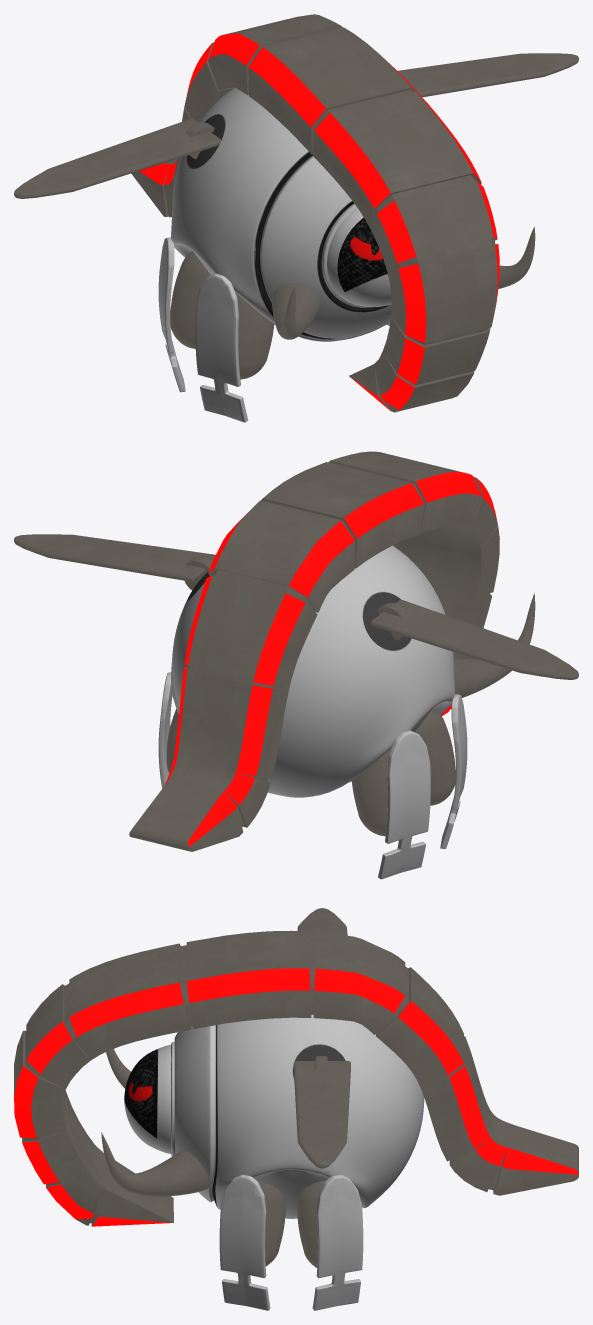
3 renders of one model, top to bottom at view 1: azimuth 30°, elevation 25°; view 2: azimuth 150°, elevation 25°; view 3: azimuth 270°, elevation 25°, orthographic. The views are drawn at different scales.
Visible parts, largest first — view 1: pSphere4_blinn2_0, pSphere1_blinn3_0, pCube7_blinn1_0; view 2: pSphere4_blinn2_0, pSphere1_blinn3_0, pCube7_blinn1_0; view 3: pSphere4_blinn2_0, pSphere1_blinn3_0, pCube7_blinn1_0.
Boxes of the visible parts, box(x1,y1,x2,y2) form: pSphere4_blinn2_0: box(14, 14, 578, 412); pSphere1_blinn3_0: box(158, 87, 391, 422); pCube7_blinn1_0: box(139, 33, 499, 410); pSphere4_blinn2_0: box(14, 451, 578, 851); pSphere1_blinn3_0: box(158, 545, 467, 879); pCube7_blinn1_0: box(164, 472, 496, 846); pSphere4_blinn2_0: box(14, 908, 578, 1267); pSphere1_blinn3_0: box(124, 1014, 424, 1310); pCube7_blinn1_0: box(14, 968, 578, 1226).
Bounding box in the file's own units: 0.0457 × 0.0254 × 0.0425.
Materials: 3 (2 with a texture image).
